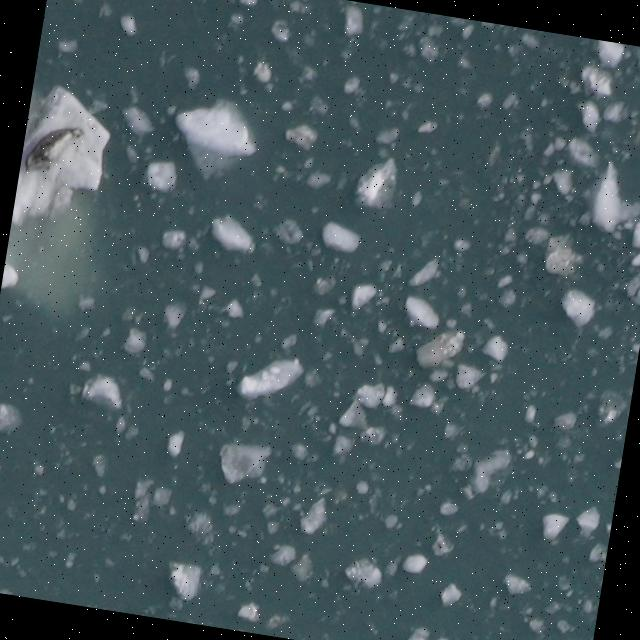seal: (20, 116, 90, 186)
